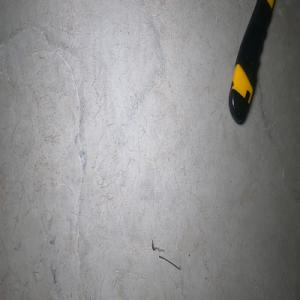Cutter: (227, 0, 274, 125)
